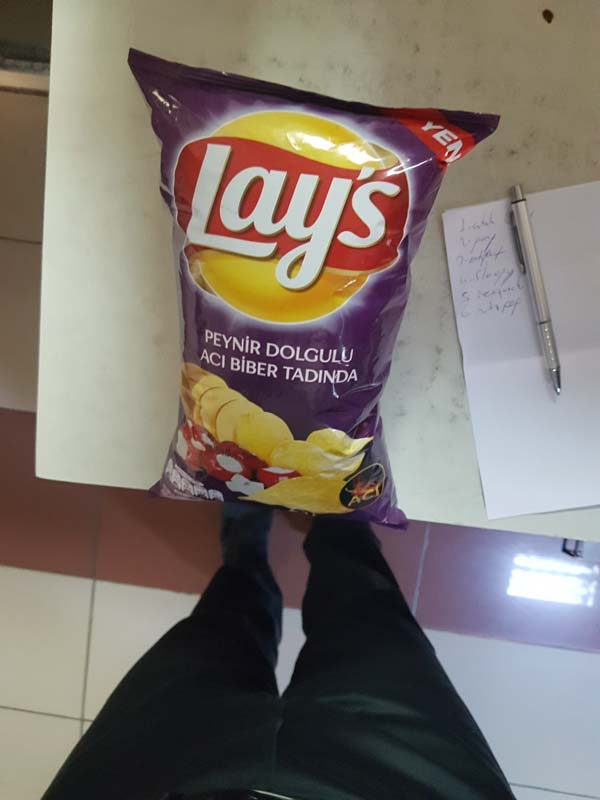layspeynirsoslu: (119, 38, 506, 533)
